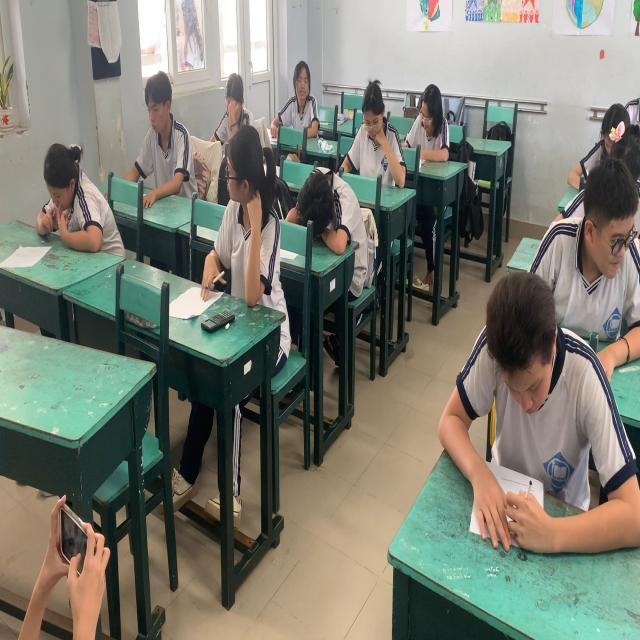cheating: (525, 146, 640, 323)
not_cheating: (457, 264, 607, 561), (20, 132, 129, 254), (218, 135, 286, 322), (135, 56, 204, 206), (354, 77, 400, 188), (220, 70, 261, 139), (290, 46, 321, 136), (411, 70, 438, 160)
